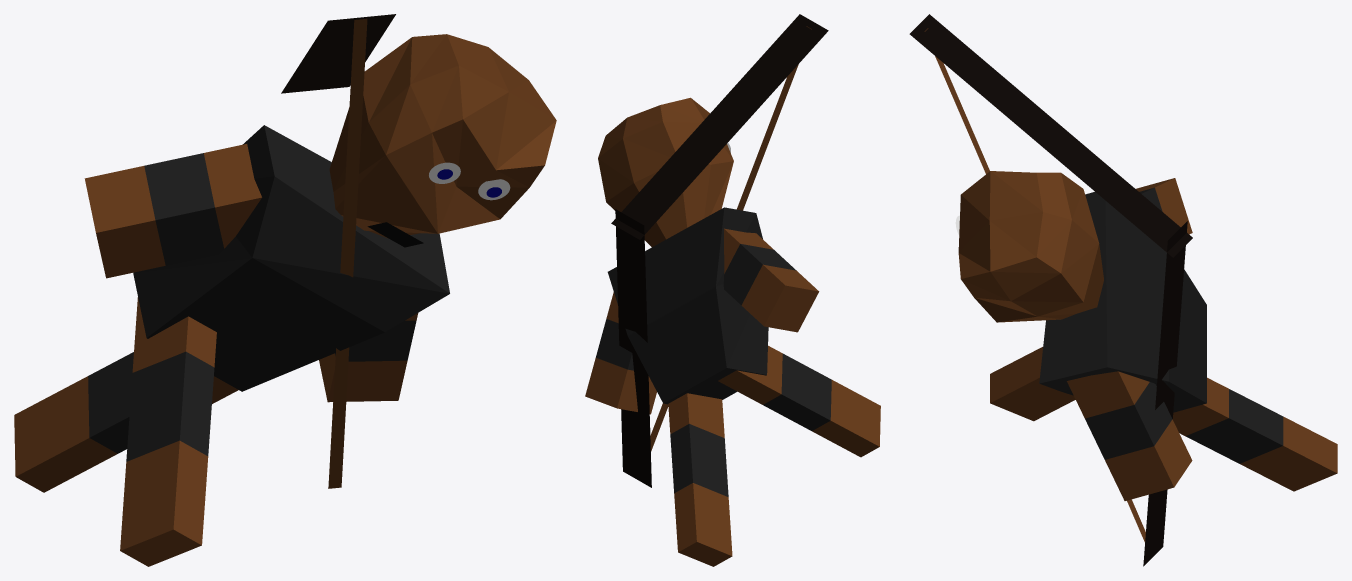
The model's file is archer2d.obj.
3 renders of one model, left to right at view 1: azimuth 30°, elevation 25°; view 2: azimuth 150°, elevation 25°; view 3: azimuth 270°, elevation 25°, orthographic. The views are drawn at different scales.
Parts seen in each view (by area): view 1: Cube.001, Cube, Cube.004, Cube.003, Cube.005, Plane.003_Plane.004, Cube.002, Plane.002_Plane.003; view 2: Cube.001, Cube, Plane.002_Plane.003, Cube.005, Cube.004, Cube.003, Plane.001_Plane.002, Cube.002, Plane.003_Plane.004; view 3: Cube, Cube.001, Plane.002_Plane.003, Cube.002, Cube.005, Plane.001_Plane.002, Cube.004, Cube.003, Plane.003_Plane.004.
Boxes of the visible parts, left/top/right/bottom form: Cube.001: left=133, top=125, right=449, bottom=391; Cube: left=329, top=34, right=556, bottom=238; Cube.004: left=120, top=297, right=216, bottom=566; Cube.003: left=84, top=144, right=261, bottom=278; Cube.005: left=14, top=352, right=238, bottom=492; Plane.003_Plane.004: left=328, top=18, right=367, bottom=488; Cube.002: left=319, top=313, right=418, bottom=402; Plane.002_Plane.003: left=281, top=14, right=395, bottom=93; Cube.001: left=607, top=207, right=768, bottom=404; Cube: left=598, top=97, right=733, bottom=246; Plane.002_Plane.003: left=611, top=14, right=828, bottom=239; Cube.005: left=668, top=393, right=732, bottom=566; Cube.004: left=718, top=345, right=880, bottom=457; Cube.003: left=723, top=228, right=819, bottom=332; Plane.001_Plane.002: left=615, top=209, right=651, bottom=487; Cube.002: left=585, top=292, right=656, bottom=414; Plane.003_Plane.004: left=650, top=26, right=811, bottom=451; Cube: left=958, top=171, right=1103, bottom=322; Cube.001: left=1039, top=192, right=1206, bottom=412; Plane.002_Plane.003: left=909, top=14, right=1192, bottom=257; Cube.002: left=1067, top=371, right=1192, bottom=500; Cube.005: left=1172, top=377, right=1337, bottom=491; Plane.001_Plane.002: left=1143, top=221, right=1187, bottom=566; Cube.004: left=990, top=347, right=1075, bottom=421; Cube.003: left=1136, top=178, right=1192, bottom=234; Plane.003_Plane.004: left=924, top=28, right=1145, bottom=541.
Size of the model in its own units: 3.95 by 5.78 by 4.48.
